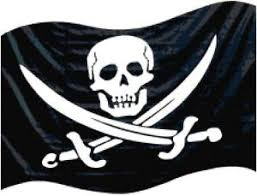Jolly Roger Flag: (1, 2, 257, 195)
